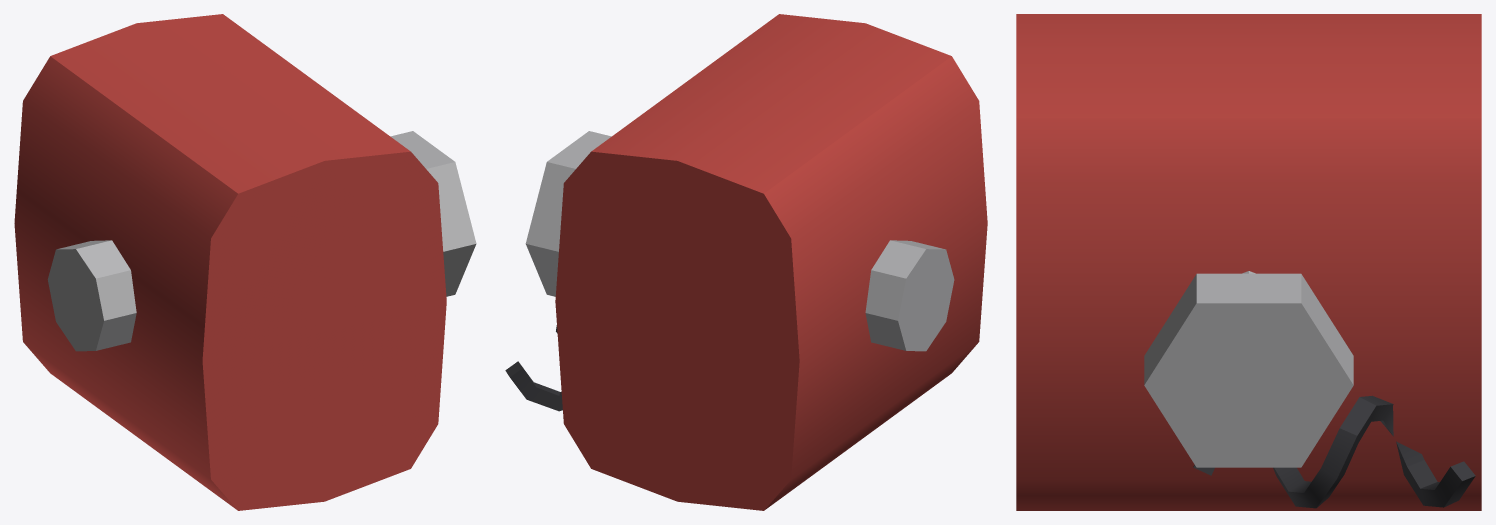
Rendered from pivot.glb.
3 views of the same model, side by side, from view 1: azimuth 30°, elevation 25°; view 2: azimuth 150°, elevation 25°; view 3: azimuth 270°, elevation 25° (orthographic). The views are drawn at different scales.
Parts seen in each view (by area): view 1: lod0; view 2: lod0; view 3: lod0.
Part boxes in pixels (x1,y1,x2,y2): lod0: (14, 14, 476, 510); lod0: (505, 14, 987, 510); lod0: (1016, 14, 1481, 510).
Size of what is drawn, in the model's own units: 0.044 by 0.04 by 0.04.
